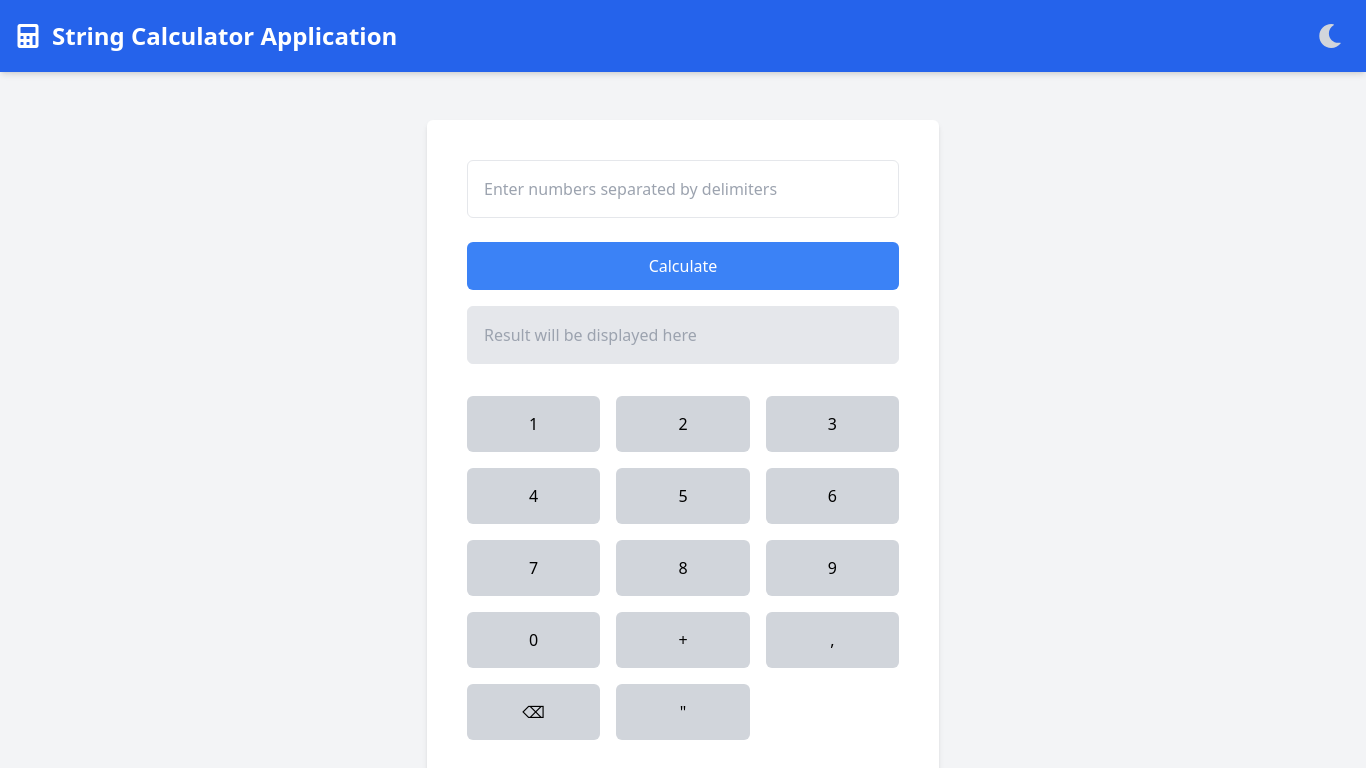
Test case: HomePage Component › displays an error message for unmatched double quotes
The width and height of the screenshot is (1366, 768).
Enter input with unmatched quotes
Type "1,2,\"3" into the field with placeholder "Enter numbers separated by delimiters".
click(683, 189); type("1,2,\"3")  # box 467,160 -> 899,218
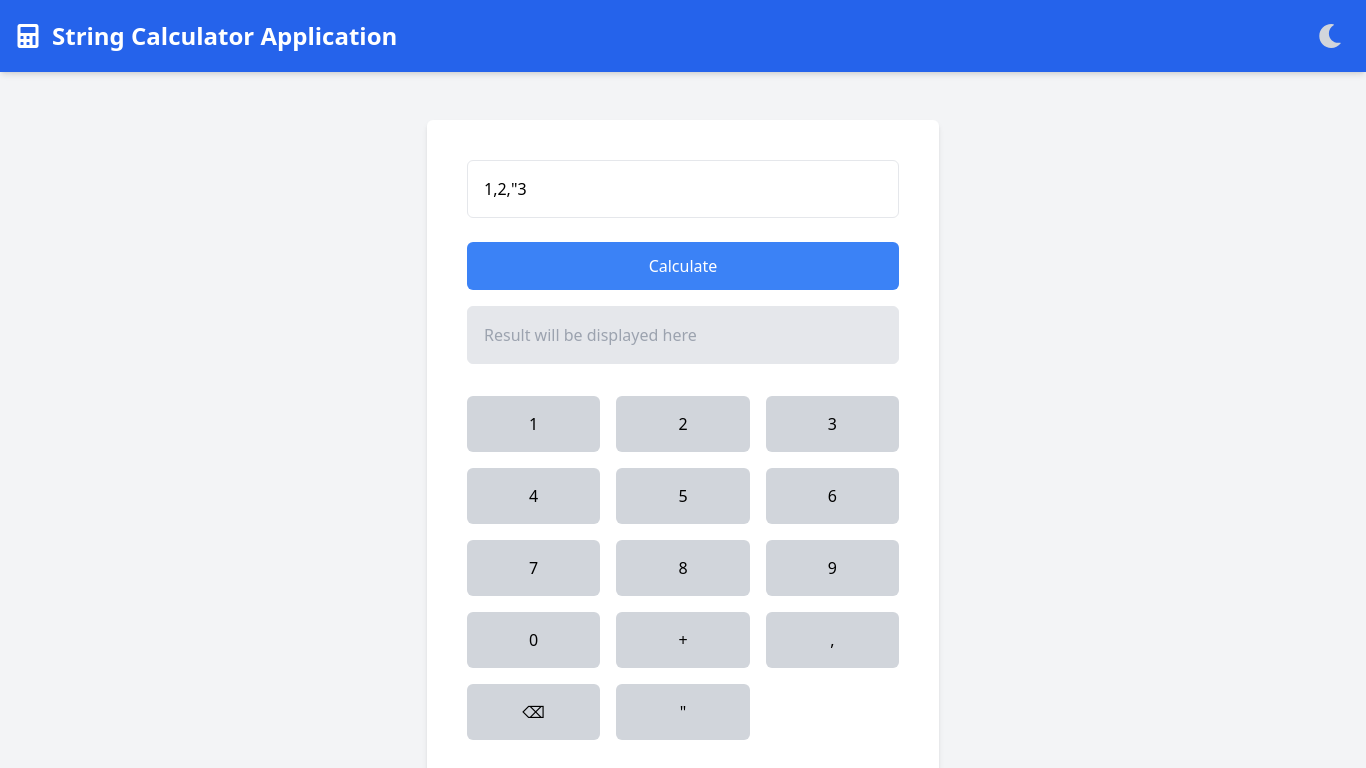
Click the button "Calculate".
click(683, 266)  # box 467,242 -> 899,290
(page scrolled)
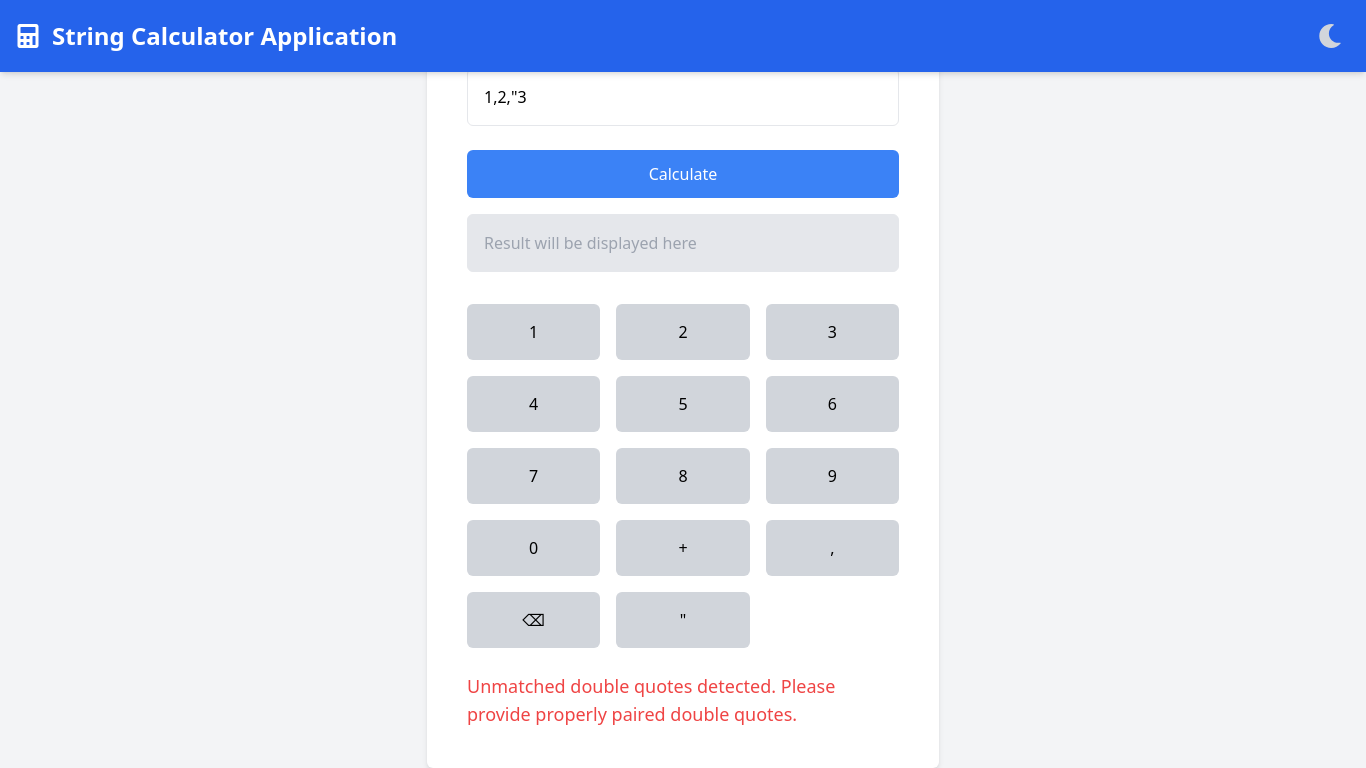
expect the text "Unmatched double quotes detected" is shown: met, box 467,674 -> 835,726
